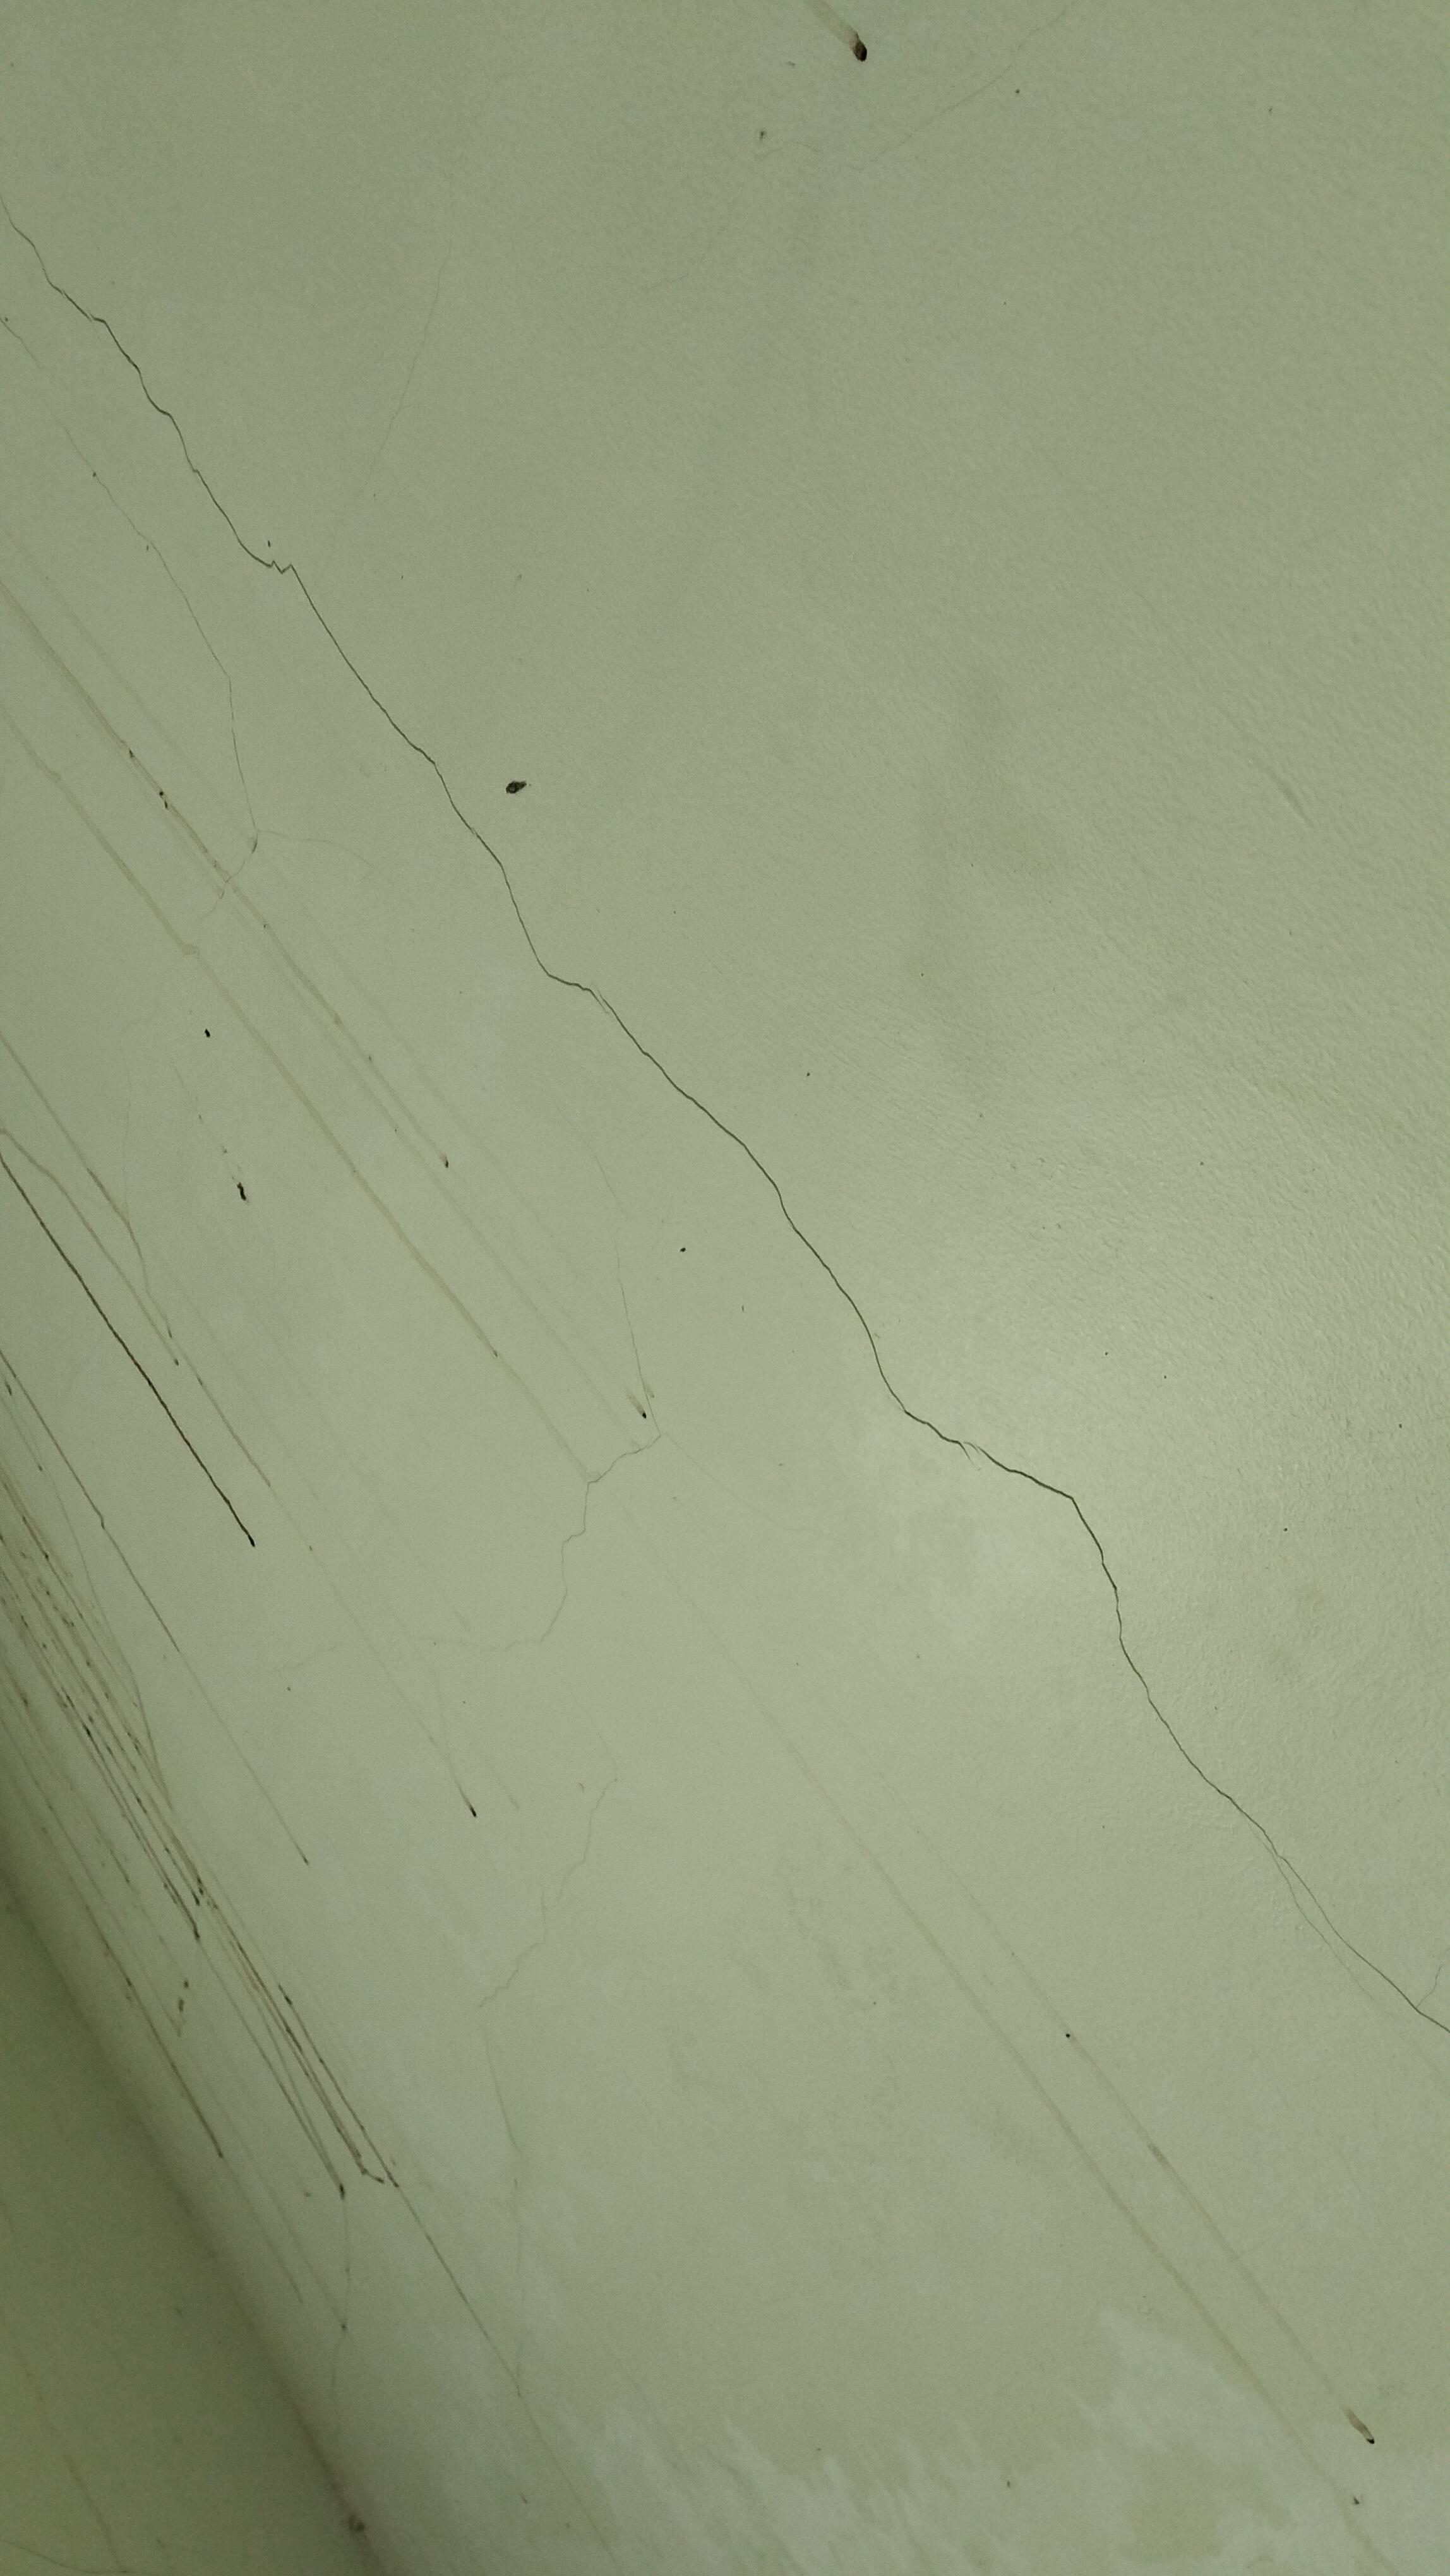Crack: (698, 1113, 1133, 1644), (1103, 1621, 1450, 2049), (223, 517, 653, 837), (0, 184, 250, 548), (459, 816, 719, 1118)
